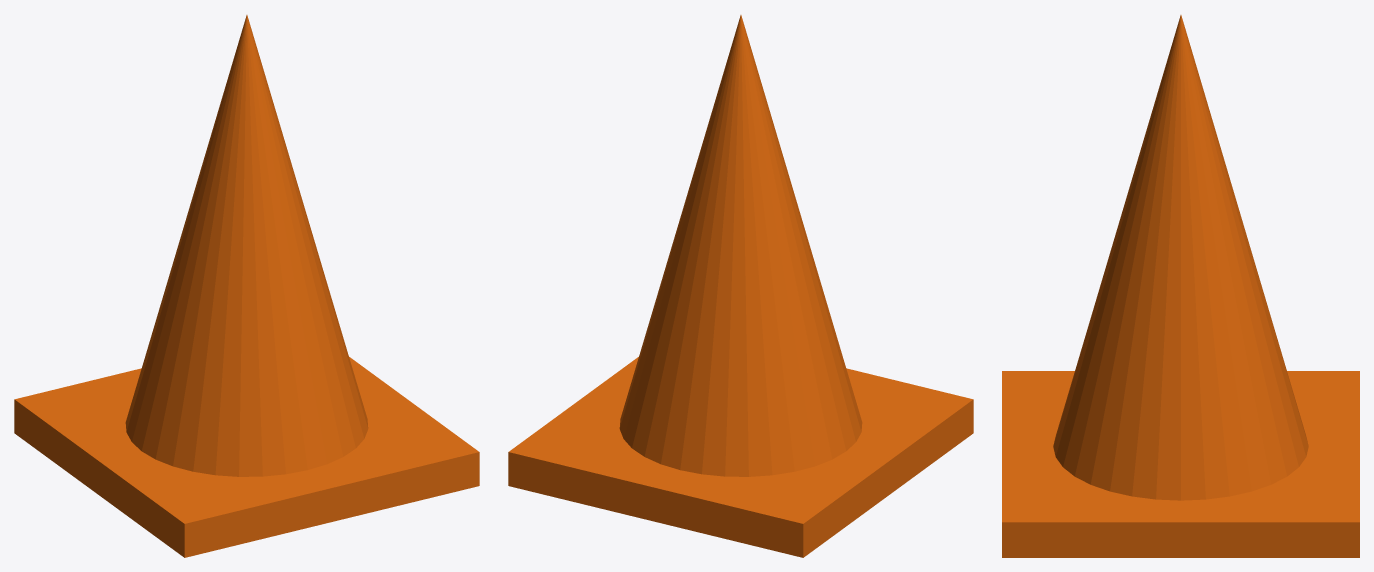
3 views of the same model, side by side, from view 1: azimuth 30°, elevation 25°; view 2: azimuth 150°, elevation 25°; view 3: azimuth 270°, elevation 25° (orthographic). The views are drawn at different scales.
Parts seen in each view (by area): view 1: Cube; view 2: Cube; view 3: Cube.
Part boxes in pixels (bbox=[...]): Cube: bbox=[14, 15, 479, 557]; Cube: bbox=[508, 15, 973, 557]; Cube: bbox=[1002, 15, 1359, 557].
Size of the model in its own units: 56.4 by 81.47 by 56.4.
